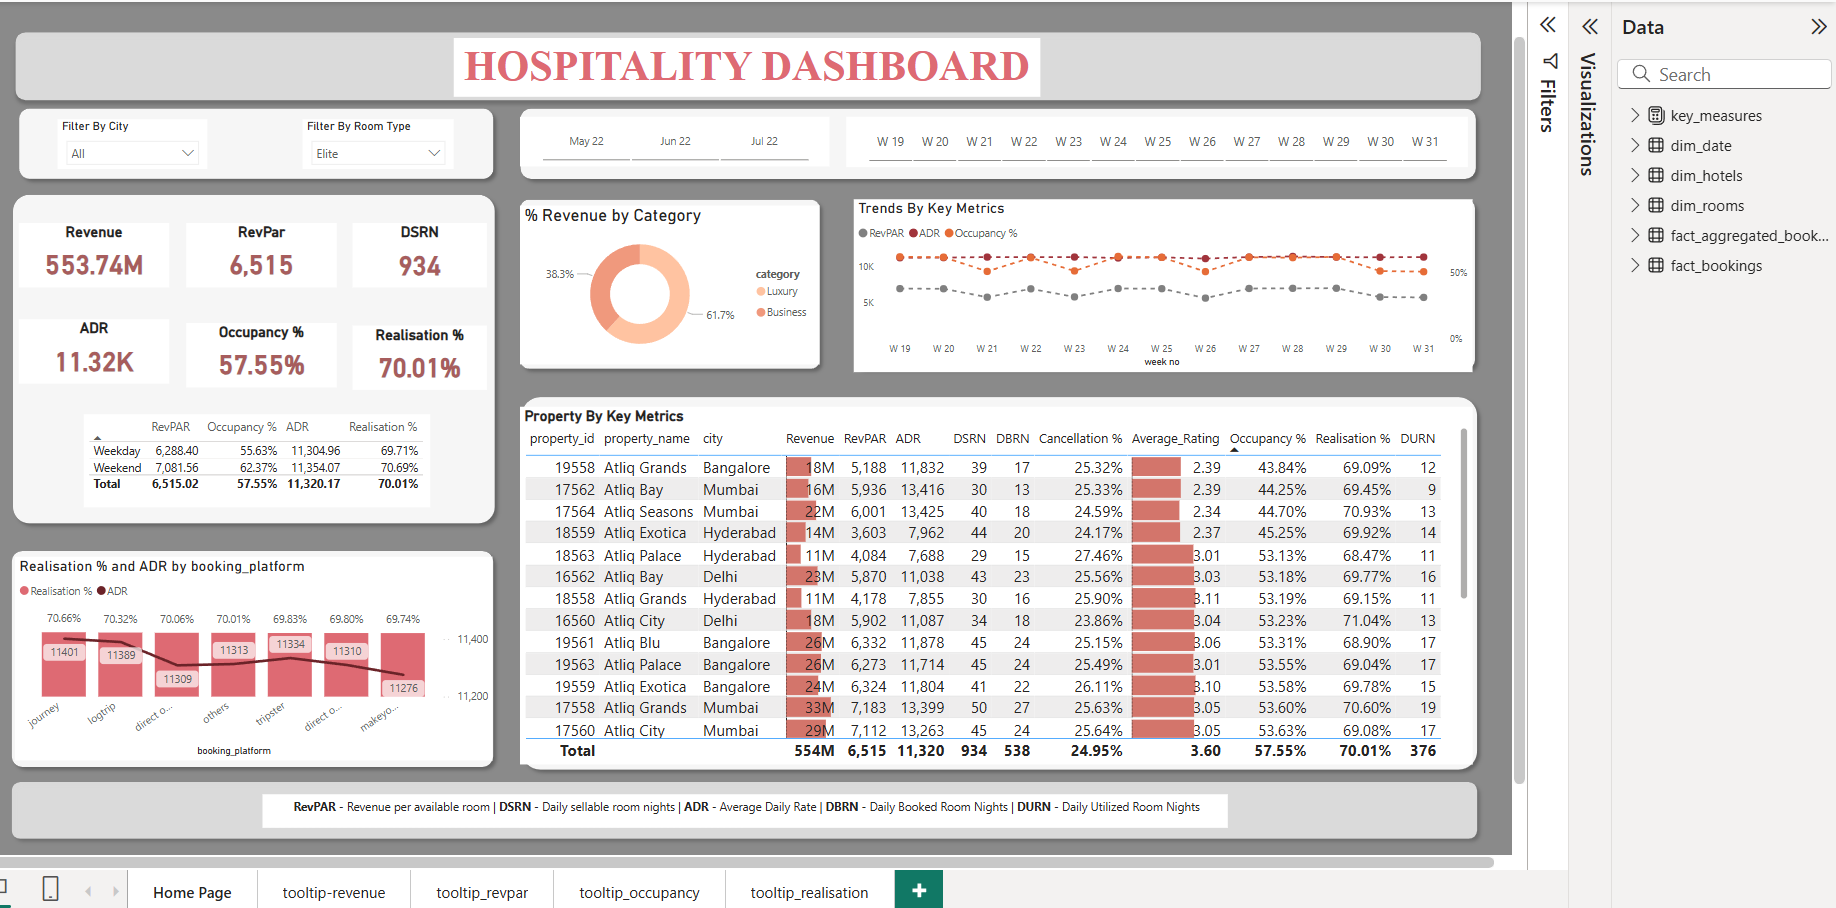

The page's visual inventory and layout, read from the dashboard file:
{"tool":"powerbi","page":{"name":"Home Page","canvas":[1800,1100],"ordinal":0},"visuals":[{"type":"shape","box":[637.9,476.3,1110,443.8],"z":0},{"type":"shape","box":[56.1,651.5,568.3,265],"z":1000},{"type":"shape","box":[1019,250.3,727.5,211.2],"z":2000},{"type":"shape","box":[636.5,250.3,360,211.2],"z":3000},{"type":"shape","box":[57.8,243.6,568.8,393.8],"z":4000},{"type":"shape","box":[637.1,145.7,1110,98.6],"z":5000},{"type":"shape","box":[64.3,145.7,560,98.6],"z":6000},{"type":"tableEx","title":"Property By Key Metrics","fields":{"Values":["dim_hotels.property_id","dim_hotels.property_name","dim_hotels.city","key_measures.Revenue","key_measures.RevPAR","key_measures.ADR","key_measures.DSRN","key_measures.DBRN","key_measures.Cancellation %","key_measures.Average_Rating","key_measures.Occupancy %","key_measures.Realisation %"]},"box":[645.7,495.7,1088.6,408.6],"z":7000},{"type":"slicer","title":"Filter By City","fields":{"Values":["dim_hotels.city"]},"box":[117.1,167.1,171.4,57.1],"z":8000},{"type":"slicer","title":"Filter By Room Type","fields":{"Values":["dim_rooms.room_class"]},"box":[397.1,167.1,172.9,57.1],"z":9000},{"type":"slicer","fields":{"Values":["dim_date.mmm yy"]},"box":[645.6,164.1,353.3,56.7],"z":10000},{"type":"slicer","fields":{"Values":["dim_date.week no"]},"box":[1018.9,164.1,710,57.8],"z":11000},{"type":"card","title":"Revenue","fields":{"Values":["key_measures.Revenue"]},"box":[72.2,285.9,172.1,73.3],"z":12000},{"type":"donutChart","title":"% Revenue by Category","fields":{"Category":["dim_hotels.category"],"Y":["key_measures.Revenue"]},"box":[645.3,265.3,342.5,181.2],"z":13000},{"type":"card","title":"RevPar","fields":{"Values":["key_measures.RevPAR"]},"box":[264.3,285.3,172.1,73.3],"z":14000},{"type":"card","title":"DSRN","fields":{"Values":["key_measures.DSRN"]},"box":[454.6,285.3,153.8,73.8],"z":15000},{"type":"card","title":"ADR","fields":{"Values":["key_measures.ADR"]},"box":[72.2,396.4,172.1,73.3],"z":16000},{"type":"lineChart","title":"Trends By Key Metrics","fields":{"Category":["dim_date.mmm yy.Variation.Date Hierarchy.Month","dim_date.week no"],"Y":["key_measures.RevPAR","key_measures.ADR"],"Y2":["key_measures.Occupancy %"]},"box":[1027.8,259,707.5,197.5],"z":17000},{"type":"card","title":"Occupancy %","fields":{"Values":["key_measures.Occupancy %"]},"box":[264.3,400.4,172.1,73.3],"z":18000},{"type":"card","title":"Realisation %","fields":{"Values":["key_measures.Realisation %"]},"box":[454.6,402.8,153.8,73.8],"z":19000},{"type":"lineStackedColumnComboChart","fields":{"Category":["fact_bookings.booking_platform"],"Y":["key_measures.Realisation %"],"Y2":["key_measures.ADR"]},"box":[69,667.3,545.7,232.9],"z":20000},{"type":"tableEx","fields":{"Values":["dim_date.day_type","key_measures.RevPAR","key_measures.Occupancy %","key_measures.ADR","key_measures.Realisation %"]},"box":[147.8,504.8,396.2,106.2],"z":21000},{"type":"shape","box":[60,917.1,1692.9,82.9],"z":22000},{"type":"textbox","box":[352,939.1,1102.9,38.6],"z":23000},{"type":"shape","box":[60,58.9,1692.9,95.7],"z":24000},{"type":"textbox","box":[570,74.6,670,67.1],"z":25000}]}

Visuals, with their boxes on the page's 1800x1100 design canvas (x1, y1, x2, y2). These are canvas units, not pixel positions in the 1836x908 screenshot, which may show the page scaled, cropped or inside an application window:
shape: 638, 476, 1748, 920
shape: 56, 652, 624, 916
shape: 1019, 250, 1746, 462
shape: 636, 250, 996, 462
shape: 58, 244, 627, 637
shape: 637, 146, 1747, 244
shape: 64, 146, 624, 244
"Property By Key Metrics" tableEx: 646, 496, 1734, 904
"Filter By City" slicer: 117, 167, 288, 224
"Filter By Room Type" slicer: 397, 167, 570, 224
slicer - dim_date.mmm yy: 646, 164, 999, 221
slicer - dim_date.week no: 1019, 164, 1729, 222
"Revenue" card: 72, 286, 244, 359
"% Revenue by Category" donutChart: 645, 265, 988, 446
"RevPar" card: 264, 285, 436, 359
"DSRN" card: 455, 285, 608, 359
"ADR" card: 72, 396, 244, 470
"Trends By Key Metrics" lineChart: 1028, 259, 1735, 456
"Occupancy %" card: 264, 400, 436, 474
"Realisation %" card: 455, 403, 608, 477
lineStackedColumnComboChart - fact_bookings.booking_platform x key_measures.Realisation %: 69, 667, 615, 900
tableEx - dim_date.day_type x key_measures.RevPAR: 148, 505, 544, 611
shape: 60, 917, 1753, 1000
textbox: 352, 939, 1455, 978
shape: 60, 59, 1753, 155
textbox: 570, 75, 1240, 142
